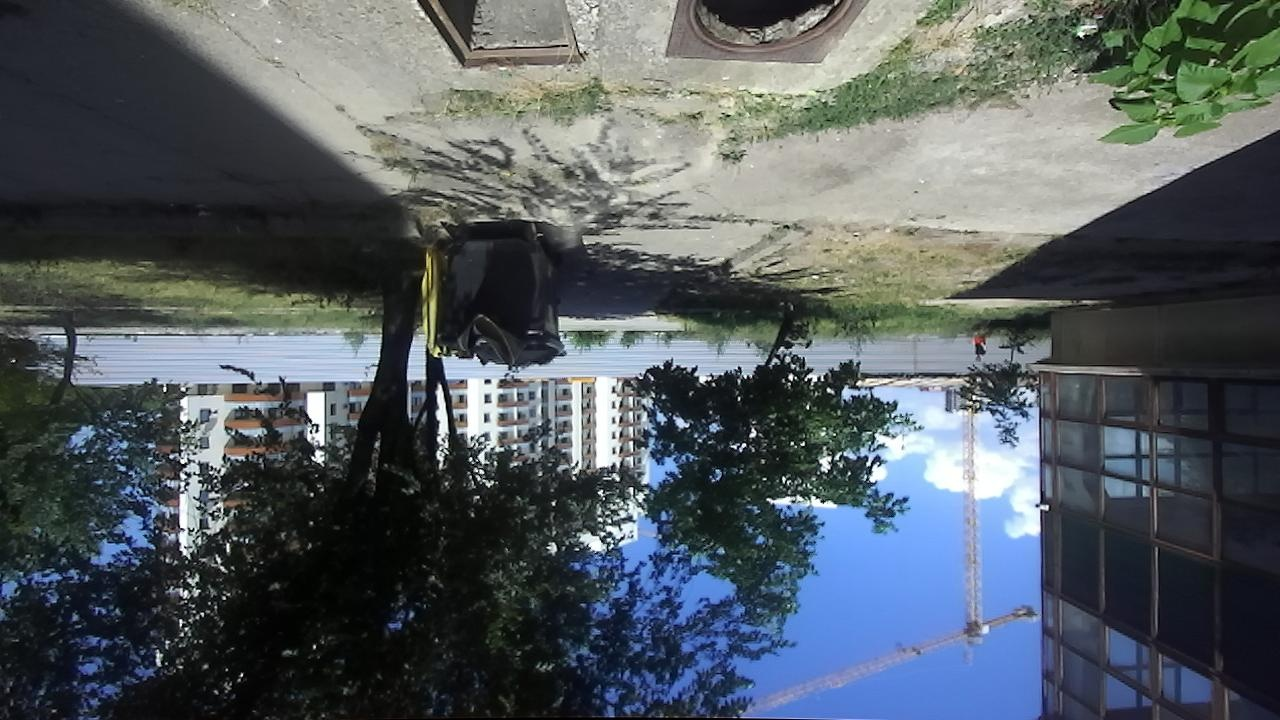drain: (416, 0, 585, 69), (679, 1, 860, 54)
